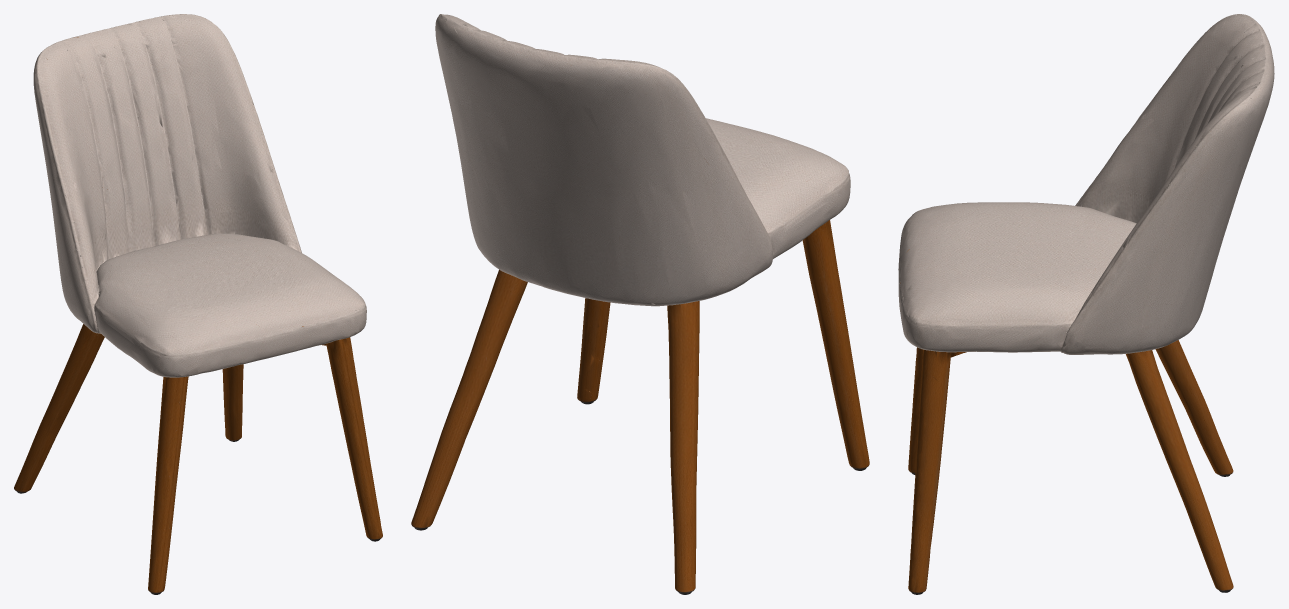
The model's file is upholstered-dining-chair.glb.
The picture shows the model from 3 angles, left to right: view 1: azimuth 30°, elevation 25°; view 2: azimuth 150°, elevation 25°; view 3: azimuth 270°, elevation 25°; orthographic projection. The views are drawn at different scales.
Visible parts, largest first — view 1: mesh_node; view 2: mesh_node; view 3: mesh_node.
Part boxes in pixels (x1,y1,x2,y2): mesh_node: (14, 14, 382, 594); mesh_node: (411, 14, 869, 594); mesh_node: (898, 14, 1274, 594).
Bounding box in the file's own units: 0.4902 × 0.86 × 0.6127.
Materials: 1 (1 with a texture image).
